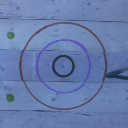Axe Tip: (110, 70, 122, 73)
